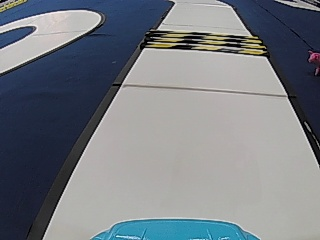bump: (157, 31, 254, 57)
